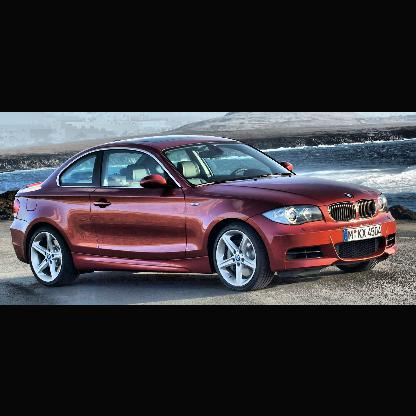BMW 1 Series Coupe 2012: (9, 136, 396, 297)
